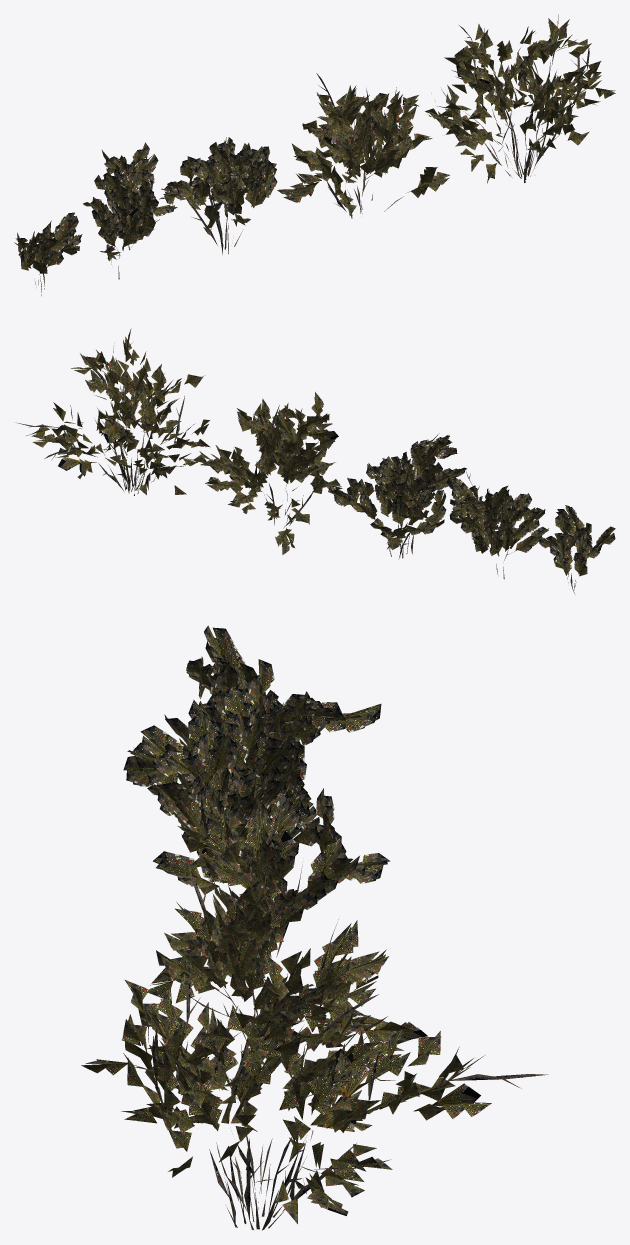
The model's file is wild_rooibos_bush.glb.
3 views of the same model, one above another, from view 1: azimuth 30°, elevation 25°; view 2: azimuth 150°, elevation 25°; view 3: azimuth 270°, elevation 25° (orthographic). The views are drawn at different scales.
Visible parts, largest first — view 1: wild_rooibos_bush_a, wild_rooibos_bush_b, wild_rooibos_bush_c, wild_rooibos_bush_d, wild_rooibos_bush_e; view 2: wild_rooibos_bush_a, wild_rooibos_bush_b, wild_rooibos_bush_c, wild_rooibos_bush_d, wild_rooibos_bush_e; view 3: wild_rooibos_bush_a, wild_rooibos_bush_b, wild_rooibos_bush_c, wild_rooibos_bush_d, wild_rooibos_bush_e.
Boxes of the visible parts, bbox=[...] form: wild_rooibos_bush_a: bbox=[402, 14, 615, 183]; wild_rooibos_bush_b: bbox=[277, 73, 449, 218]; wild_rooibos_bush_c: bbox=[159, 137, 277, 254]; wild_rooibos_bush_d: bbox=[83, 142, 177, 279]; wild_rooibos_bush_e: bbox=[14, 212, 82, 295]; wild_rooibos_bush_a: bbox=[16, 328, 210, 495]; wild_rooibos_bush_b: bbox=[200, 392, 342, 554]; wild_rooibos_bush_c: bbox=[328, 433, 466, 559]; wild_rooibos_bush_d: bbox=[446, 471, 548, 579]; wild_rooibos_bush_e: bbox=[539, 505, 615, 593]; wild_rooibos_bush_a: bbox=[81, 952, 548, 1230]; wild_rooibos_bush_b: bbox=[138, 782, 388, 1071]; wild_rooibos_bush_c: bbox=[123, 709, 390, 957]; wild_rooibos_bush_d: bbox=[164, 659, 381, 802]; wild_rooibos_bush_e: bbox=[186, 625, 278, 746].
Size of the model in its own units: 2.27 by 0.533 by 0.8279.
2 materials, 2 textured.
